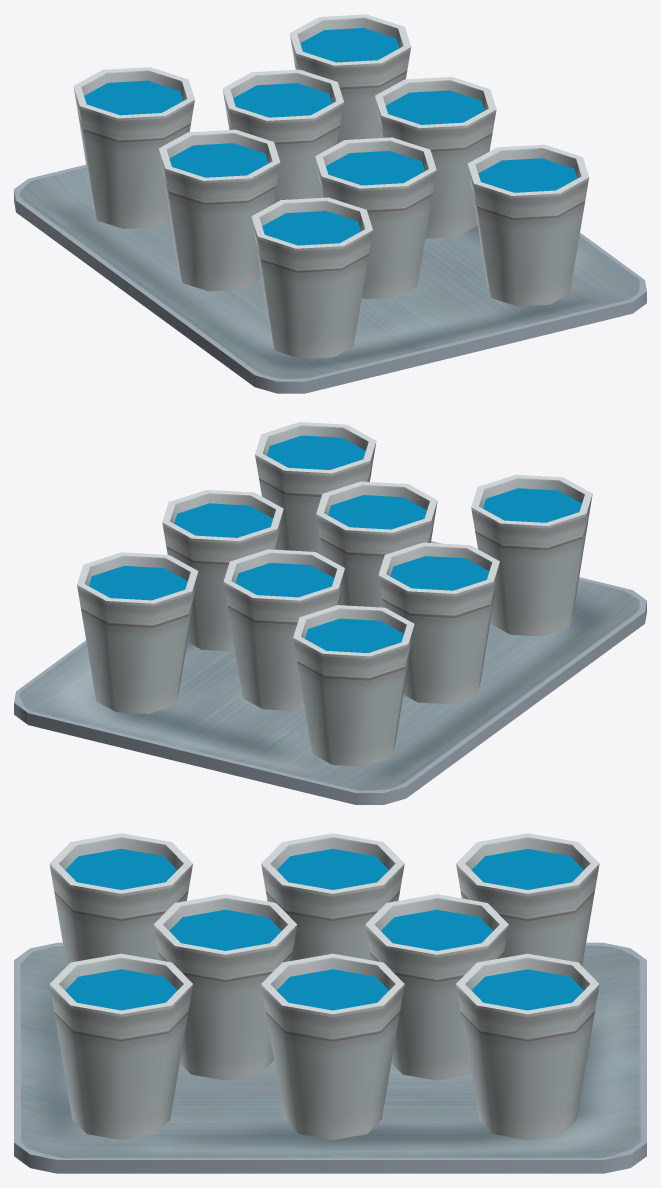
Rendered from water_tray.FBX.
3 renders of one model, top to bottom at view 1: azimuth 30°, elevation 25°; view 2: azimuth 150°, elevation 25°; view 3: azimuth 270°, elevation 25°, orthographic. The views are drawn at different scales.
Parts seen in each view (by area): view 1: _cups, _tray, _water; view 2: _cups, _tray, _water; view 3: _cups, _tray, _water.
Boxes of the visible parts, bbox=[...] form: _cups: bbox=[73, 14, 589, 359]; _tray: bbox=[14, 164, 646, 393]; _water: bbox=[84, 28, 577, 245]; _cups: bbox=[77, 422, 592, 766]; _tray: bbox=[14, 541, 646, 804]; _water: bbox=[89, 435, 581, 652]; _cups: bbox=[49, 833, 599, 1139]; _tray: bbox=[14, 942, 646, 1173]; _water: bbox=[65, 849, 583, 1010].
Size of the model in its own units: 0.7278 by 0.2327 by 0.8953.
